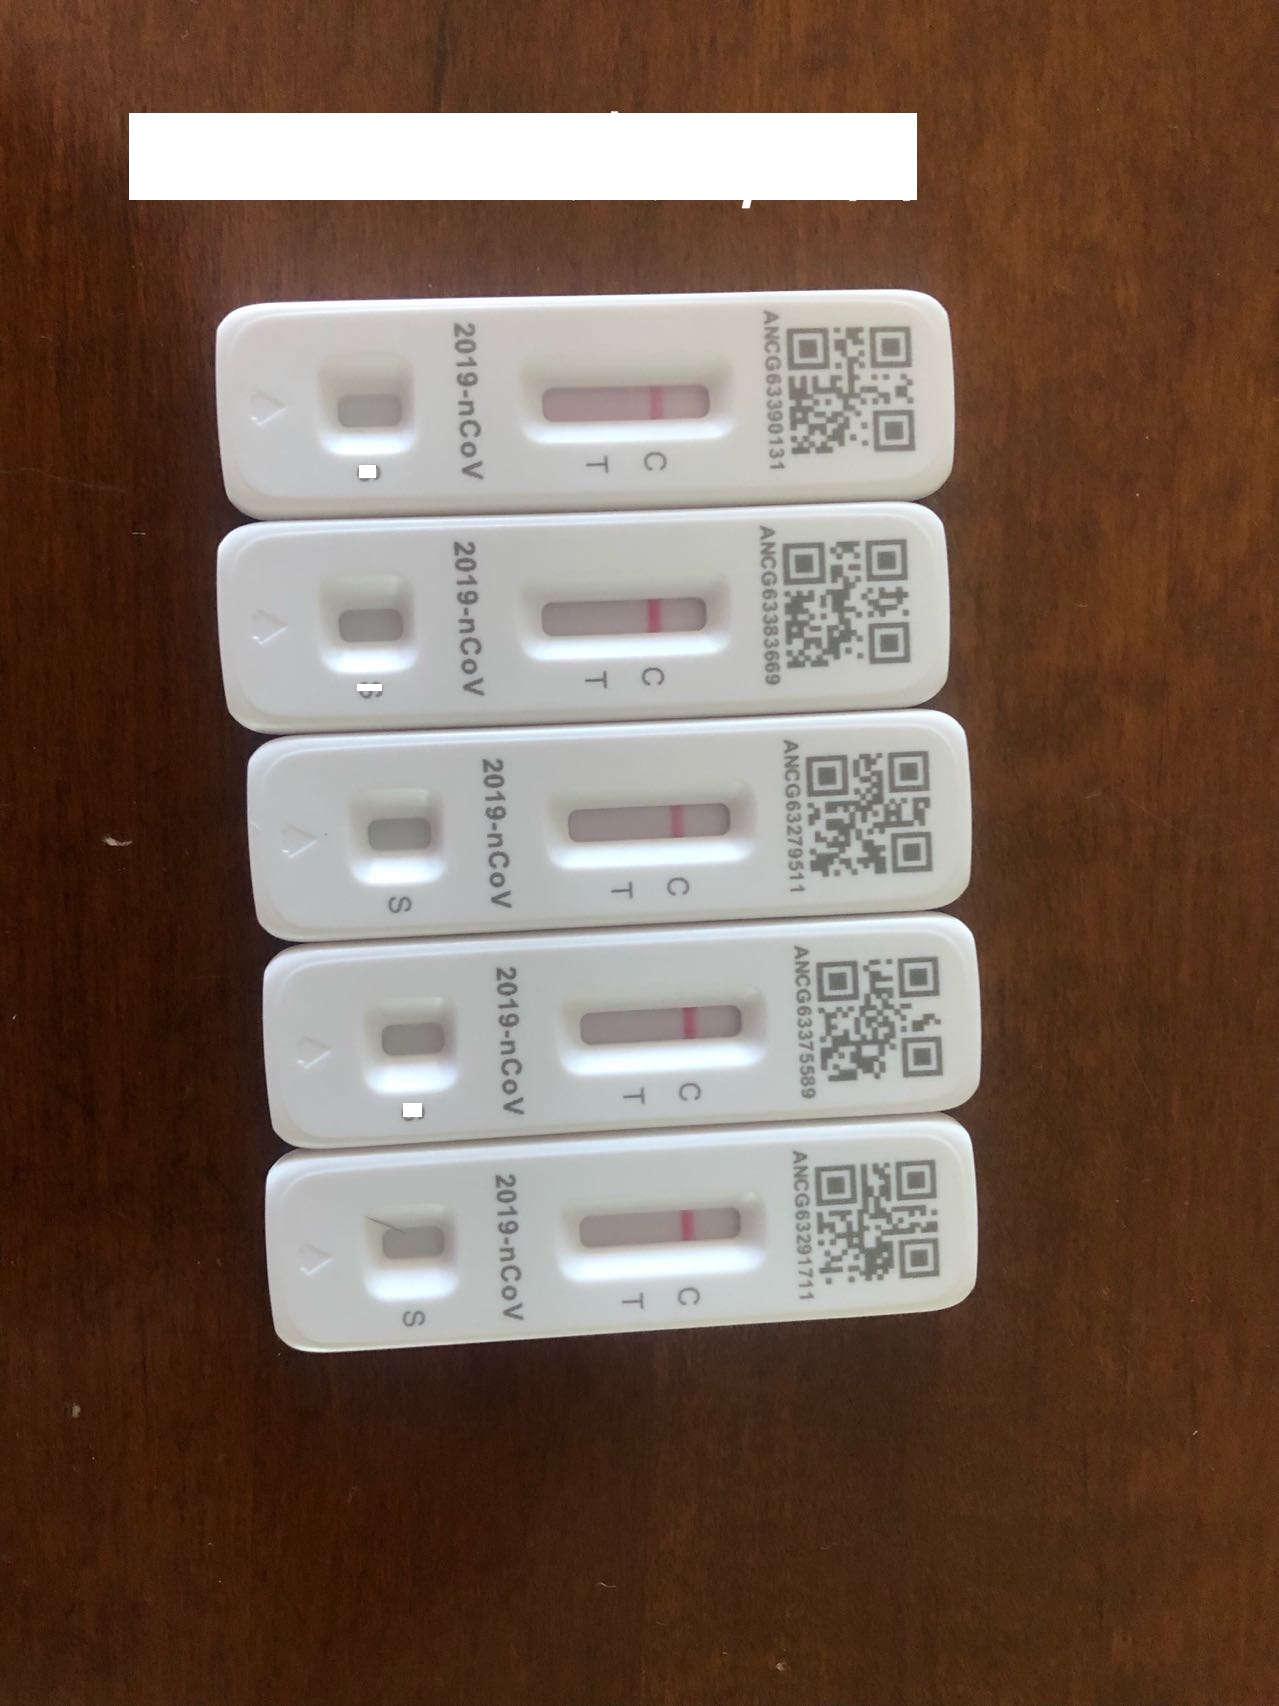negative: (515, 352, 739, 442), (555, 1192, 777, 1277), (555, 987, 775, 1071), (519, 578, 731, 658), (543, 784, 758, 862)
